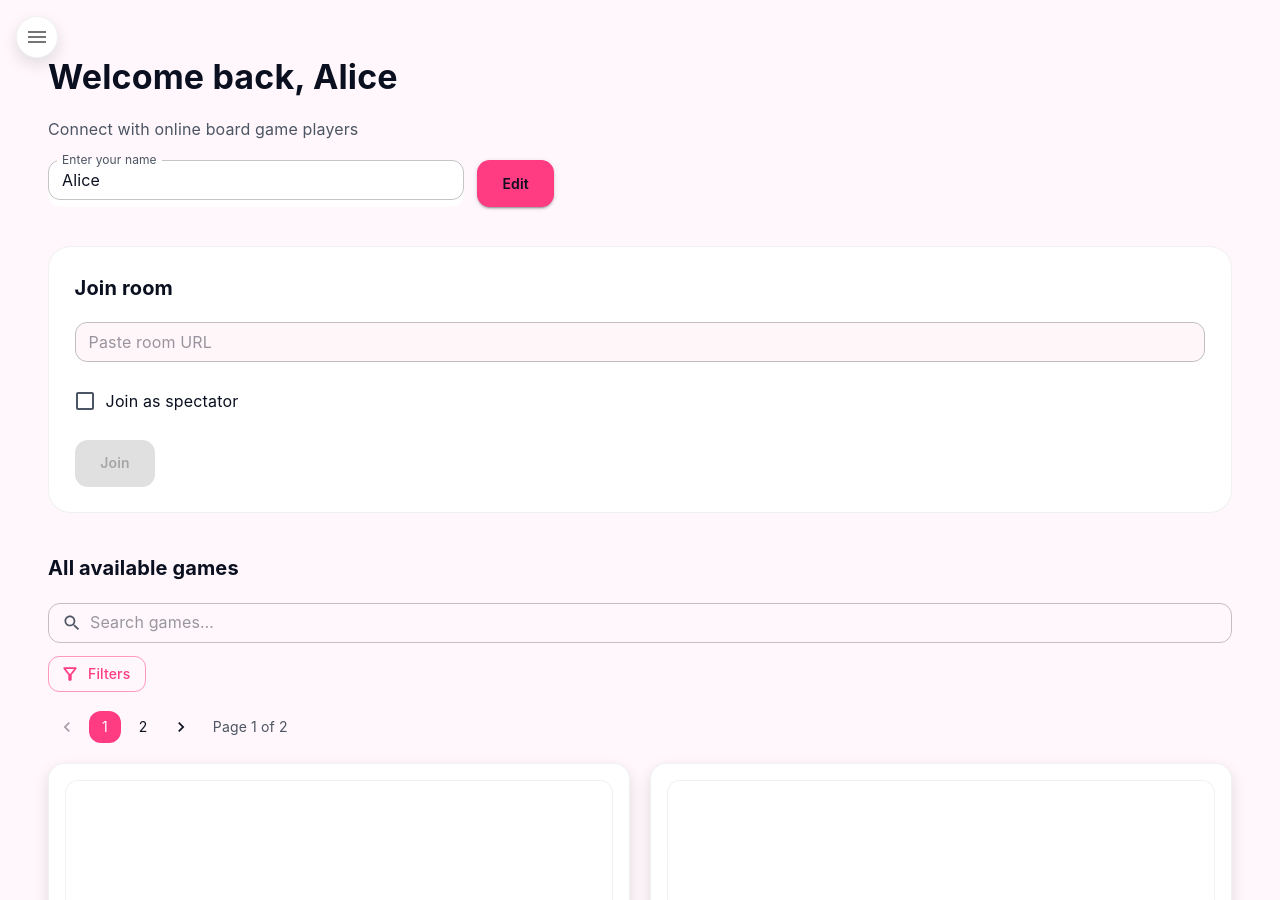
Test case: SettingsModal entry points › HomePage sidebar Settings opens SettingsModal
Click the button named "Open menu".
click(37, 37)  # box [16, 16, 58, 58]
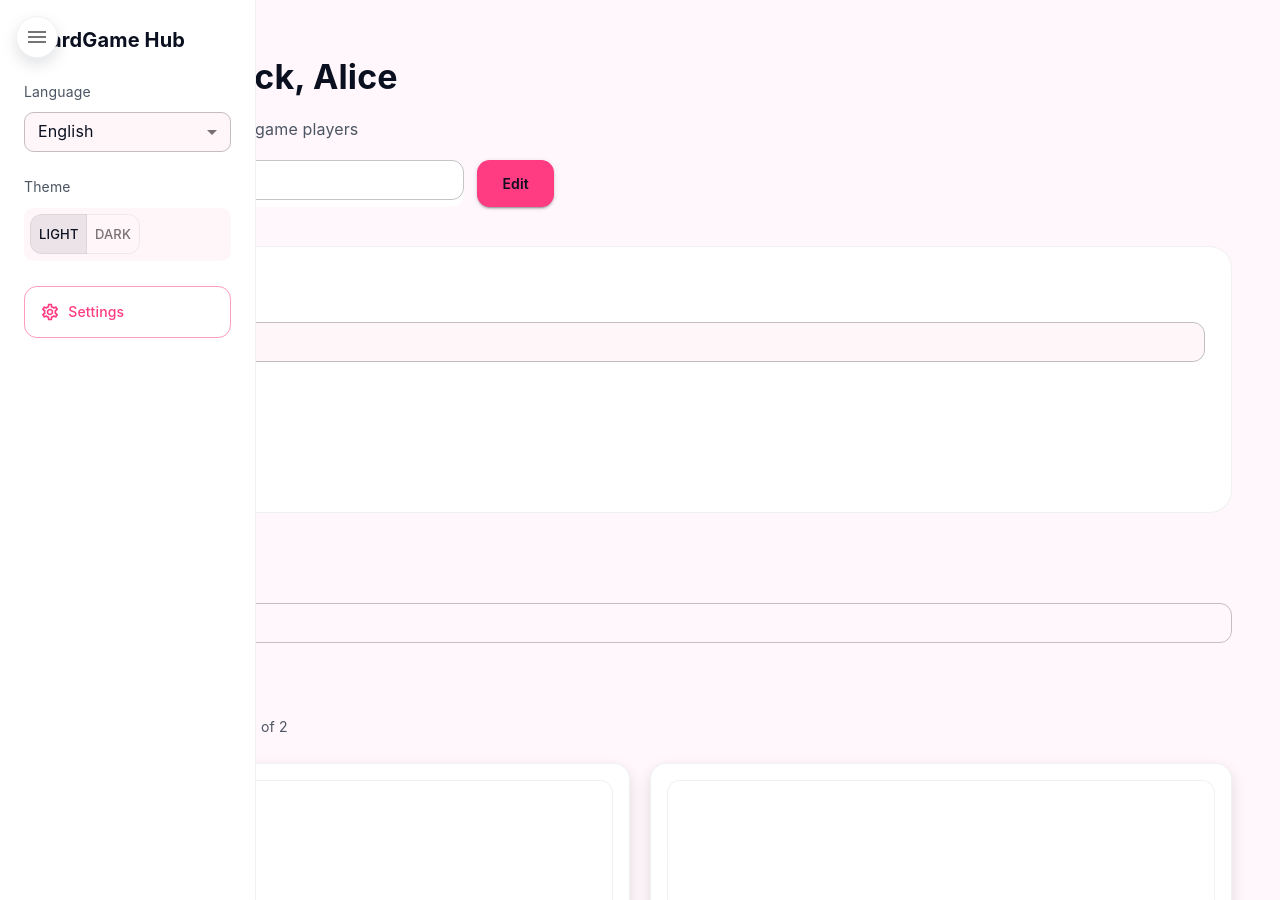
Result: the button "Settings" is shown
Click the button "Settings".
click(128, 312)  # box [24, 286, 231, 338]
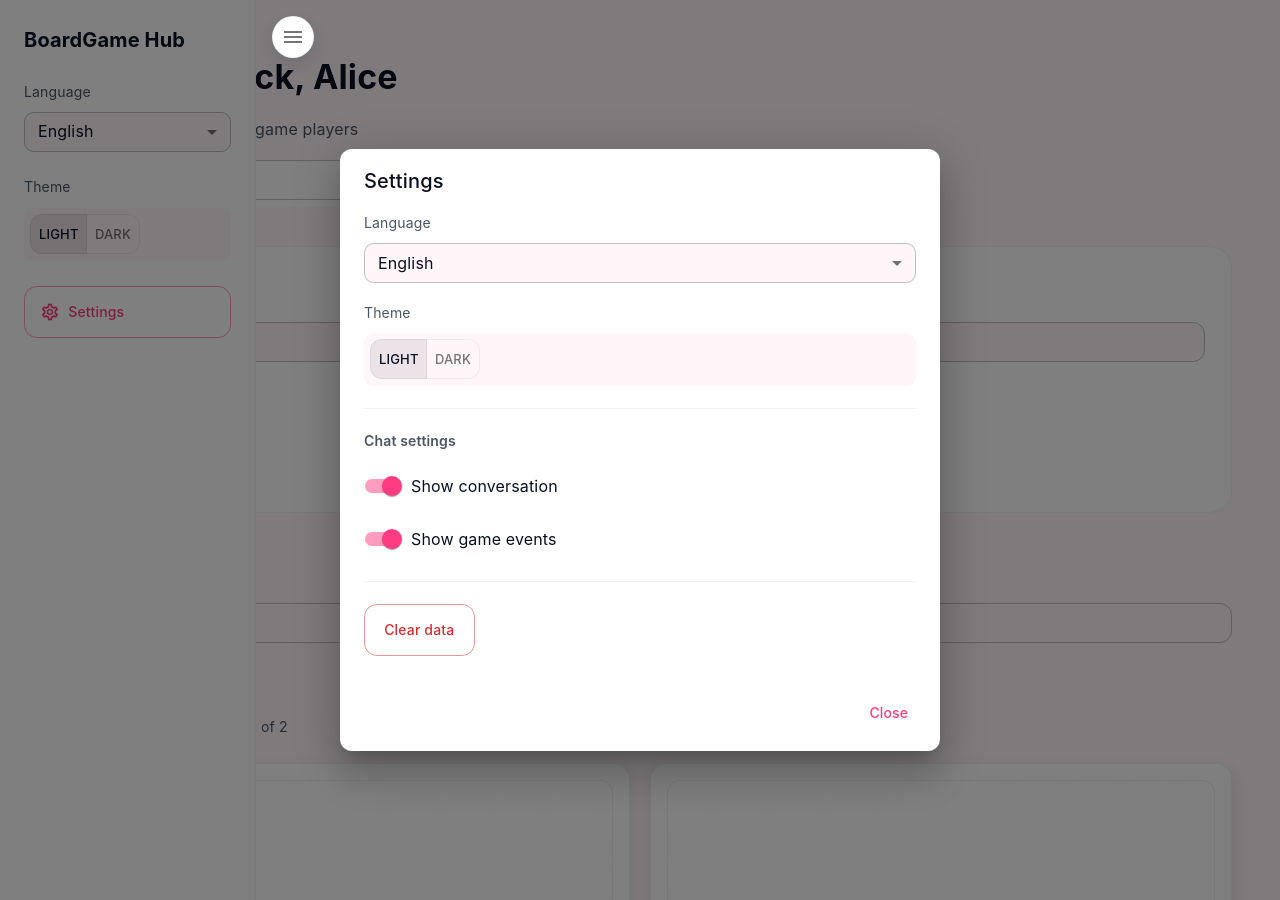
Result: the dialog "Settings" is shown at [340, 149, 940, 751]
